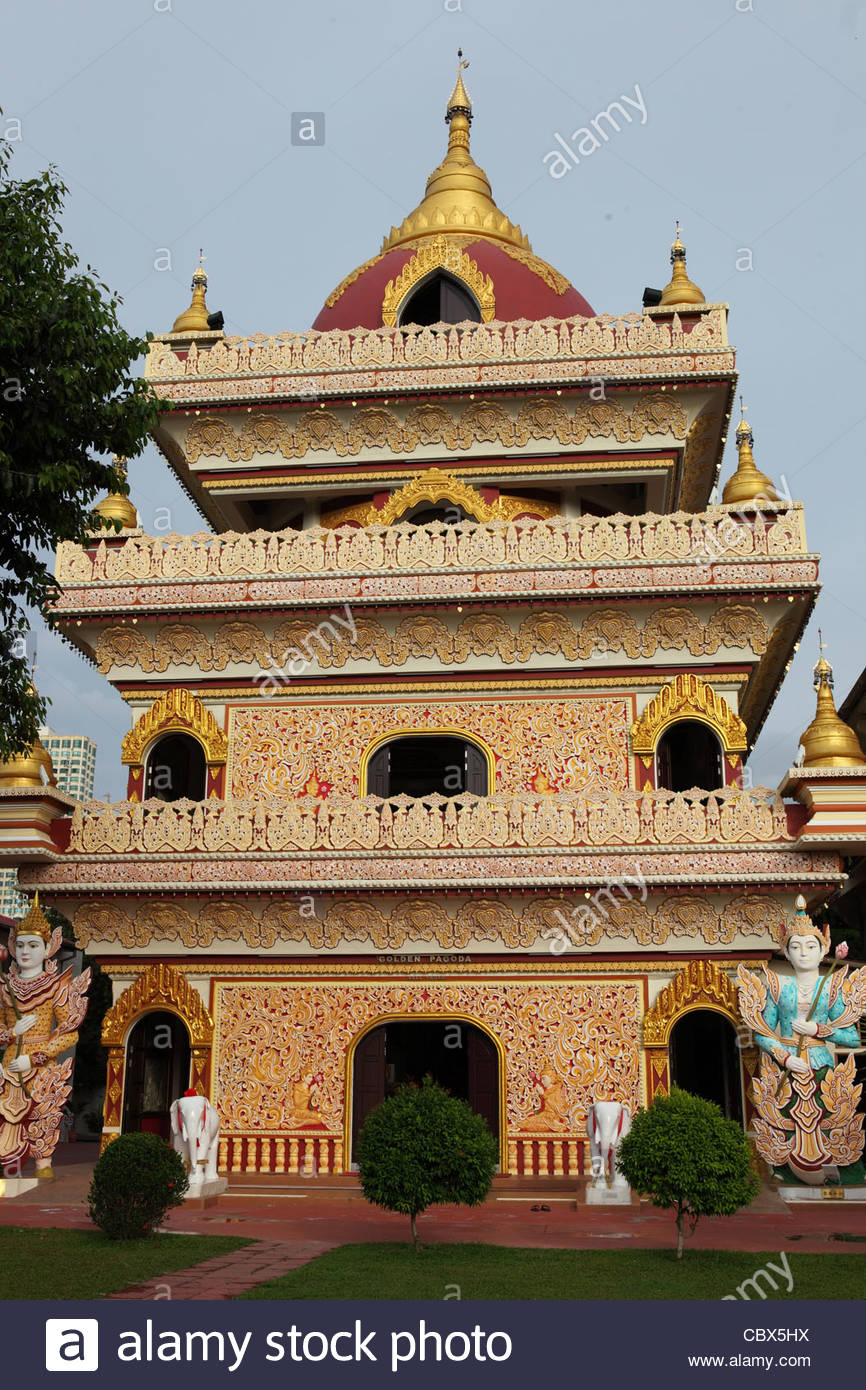Buddhist Temple: (54, 71, 826, 1167)
